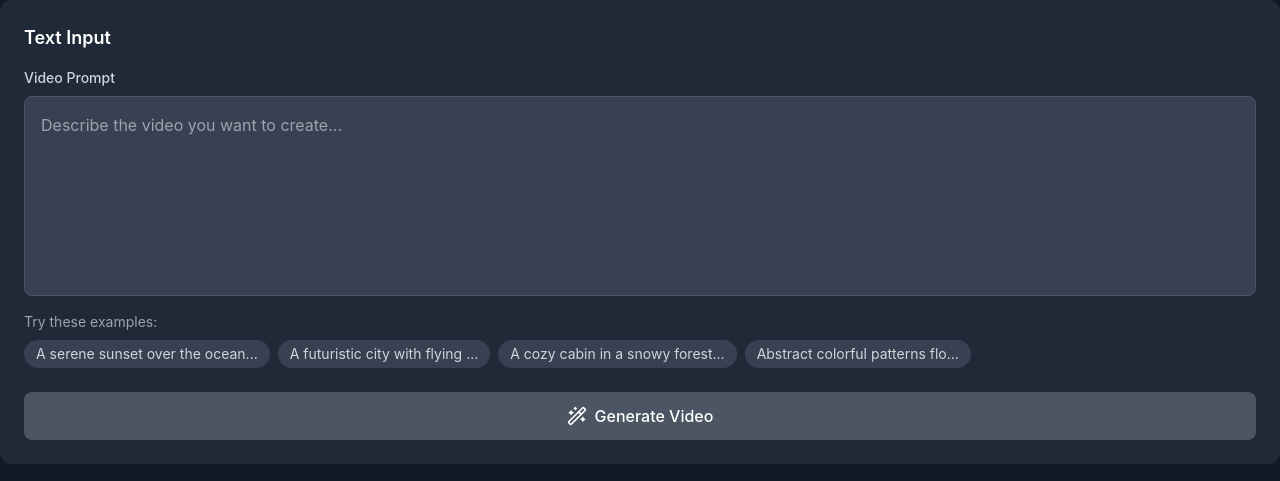
Test case: TextInput › enables generate button when textarea has content
This screenshot has width=1280, height=481.
Type "A sunset" into the text box with placeholder "Describe the video you want to create..." at (640, 196), box left=24, top=96, right=1256, bottom=296
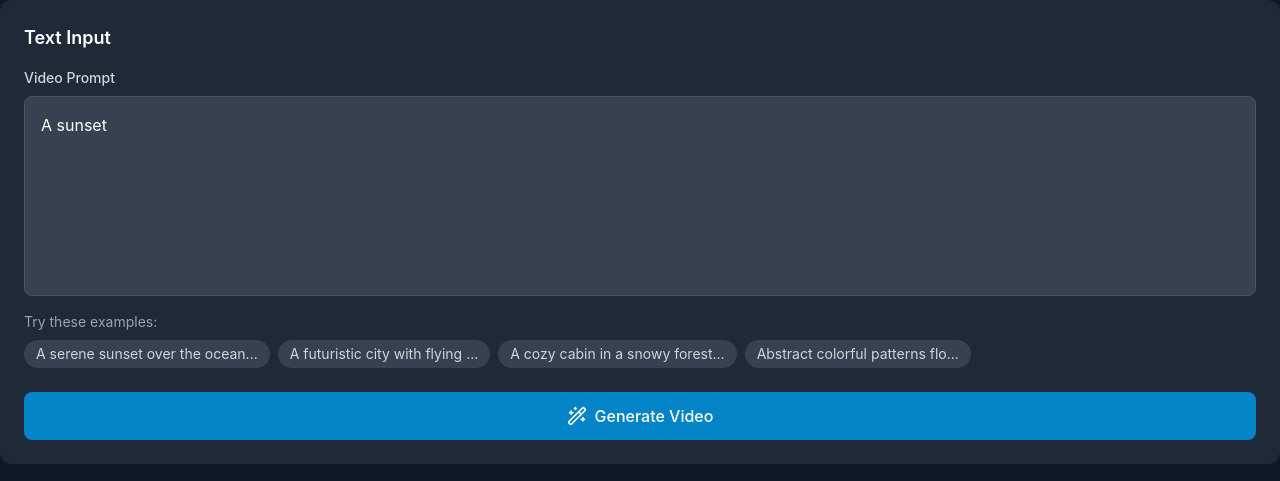
Check: the button "Generate Video" is enabled, box left=24, top=392, right=1256, bottom=440
